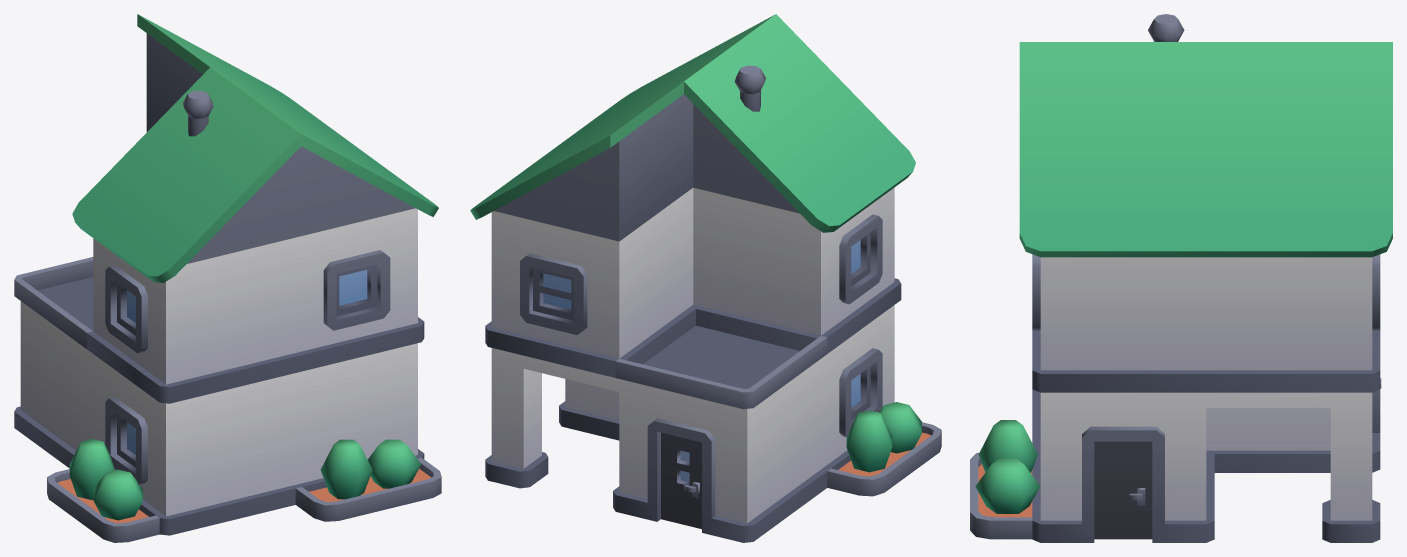
Rendered from sub-building-type-r.glb.
3 renders of one model, left to right at view 1: azimuth 30°, elevation 25°; view 2: azimuth 150°, elevation 25°; view 3: azimuth 270°, elevation 25°, orthographic. The views are drawn at different scales.
Visible parts, largest first — view 1: building-type-r; view 2: building-type-r; view 3: building-type-r.
Part boxes in pixels (box(x1,y1,x2,y2)): building-type-r: box(14, 14, 441, 542); building-type-r: box(470, 14, 941, 542); building-type-r: box(970, 14, 1392, 542).
Size of the model in its own units: 10.28 by 11.41 by 10.2.
Materials: 1 (1 with a texture image).
